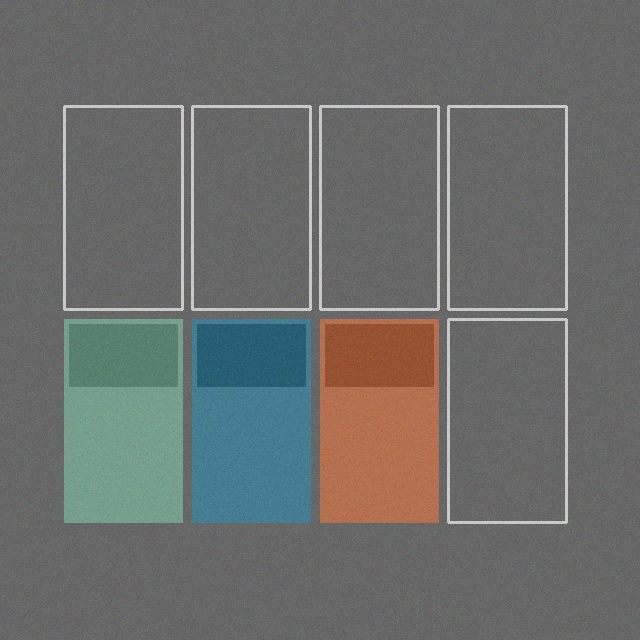space-empty: (64, 106, 182, 309), (192, 106, 310, 309), (320, 106, 438, 309), (448, 106, 566, 309), (448, 319, 566, 522)
space-occupied: (64, 319, 182, 522), (192, 319, 310, 522), (320, 319, 438, 522)
